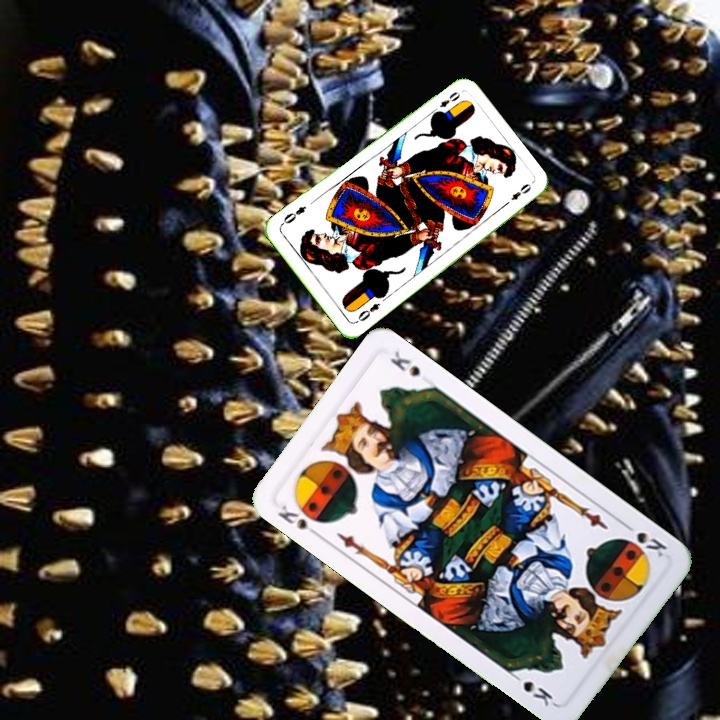EO: (428, 87, 463, 117), (354, 299, 383, 324)
SK: (618, 518, 670, 561), (273, 501, 324, 541)
